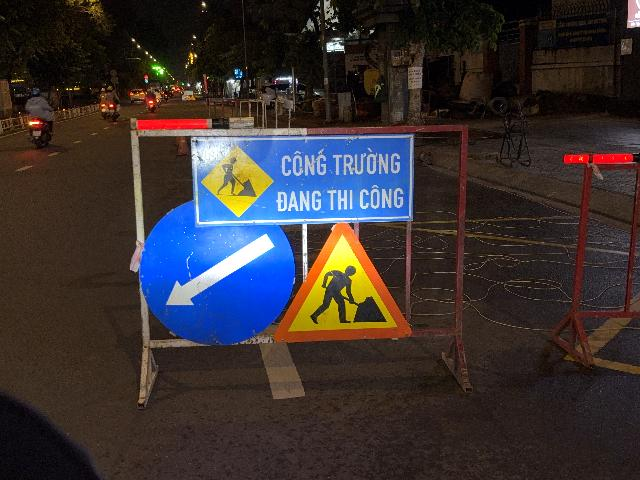cong-truong-dang-thi-cong: (272, 222, 411, 343)
huong-phai-di-vong-chuong-ngai-vat: (140, 200, 295, 346)
